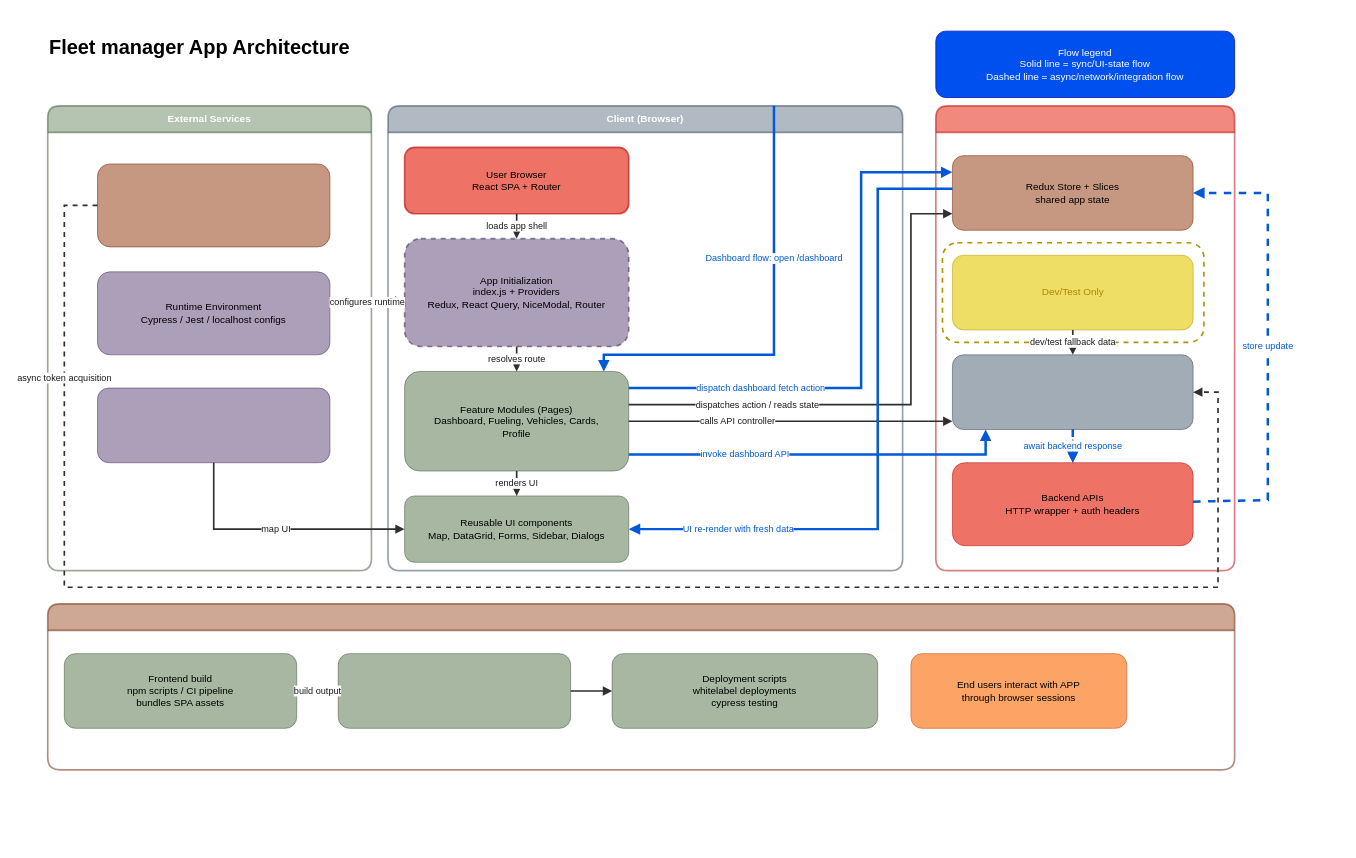
Some shapes in this 1356 by 858 pixel diagram are drawn without their labels. Here are the shapes that lost their labels. From the top down, the box of each, then its label:
(97, 163, 330, 247): Azure Authentication
(952, 254, 1193, 330): Mock data layer Cypress + local fallback responses
(935, 105, 1235, 571): Backend & Data
(952, 354, 1193, 430): Service layer API Controllers
(97, 387, 330, 463): Google Maps integration map layers, markers, overlays
(337, 653, 571, 728): Static hosting + routing serves index + client routes
(46, 603, 1235, 770): Build & Deployment
